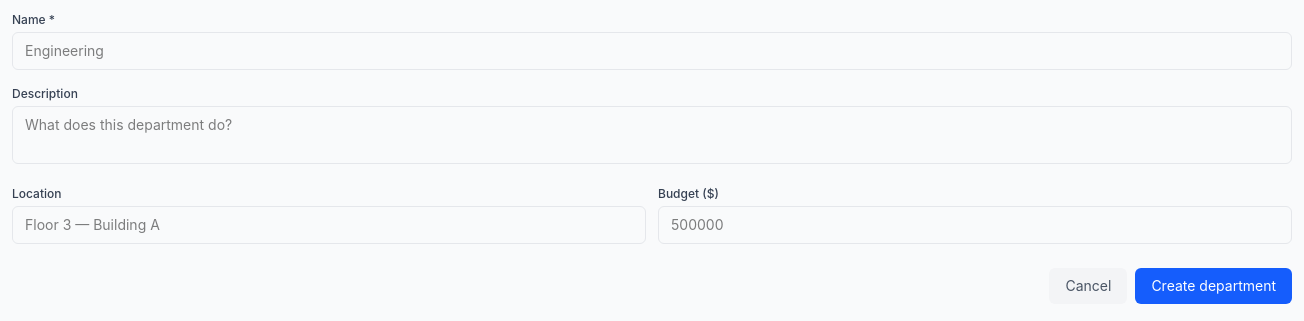
Test: DepartmentForm › disables submit button while submitting
Type "Test" into the field with placeholder "Engineering" at coordinates (652, 51), box x1=12 y1=32 x2=1292 y2=70
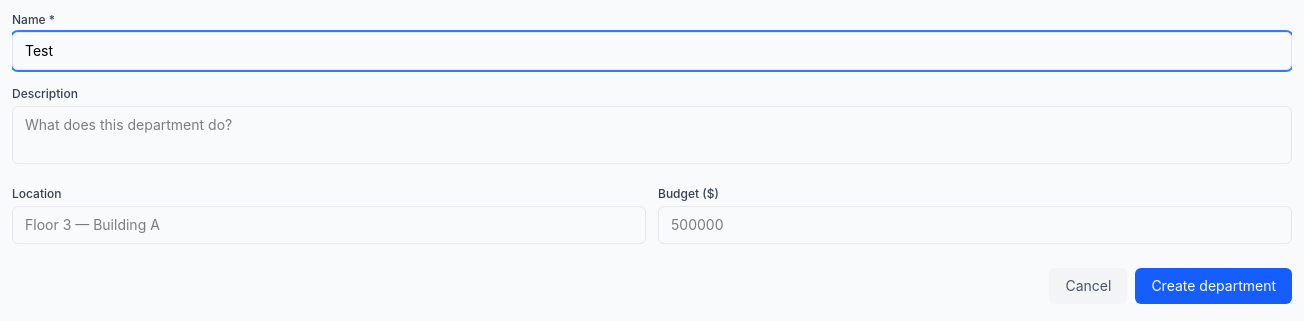
Click the button "Create department" at coordinates (1214, 286), box x1=1135 y1=268 x2=1292 y2=304
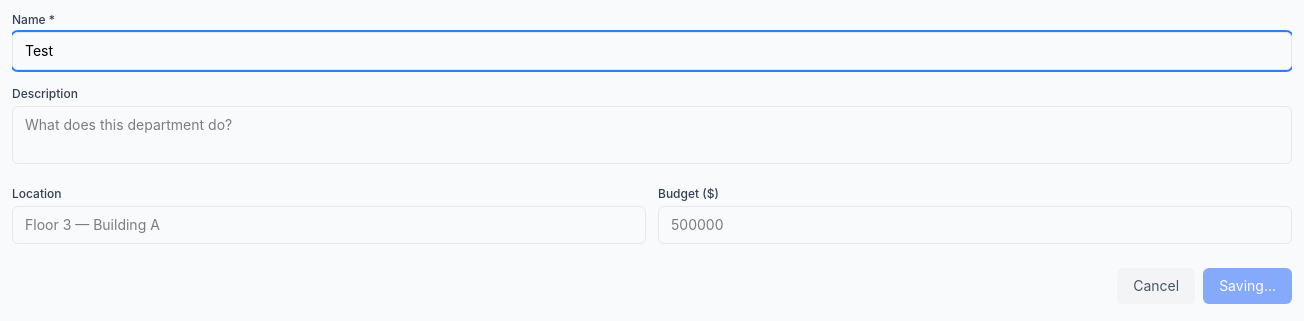
Check: the button "Saving…" is disabled, box x1=1203 y1=268 x2=1292 y2=304
